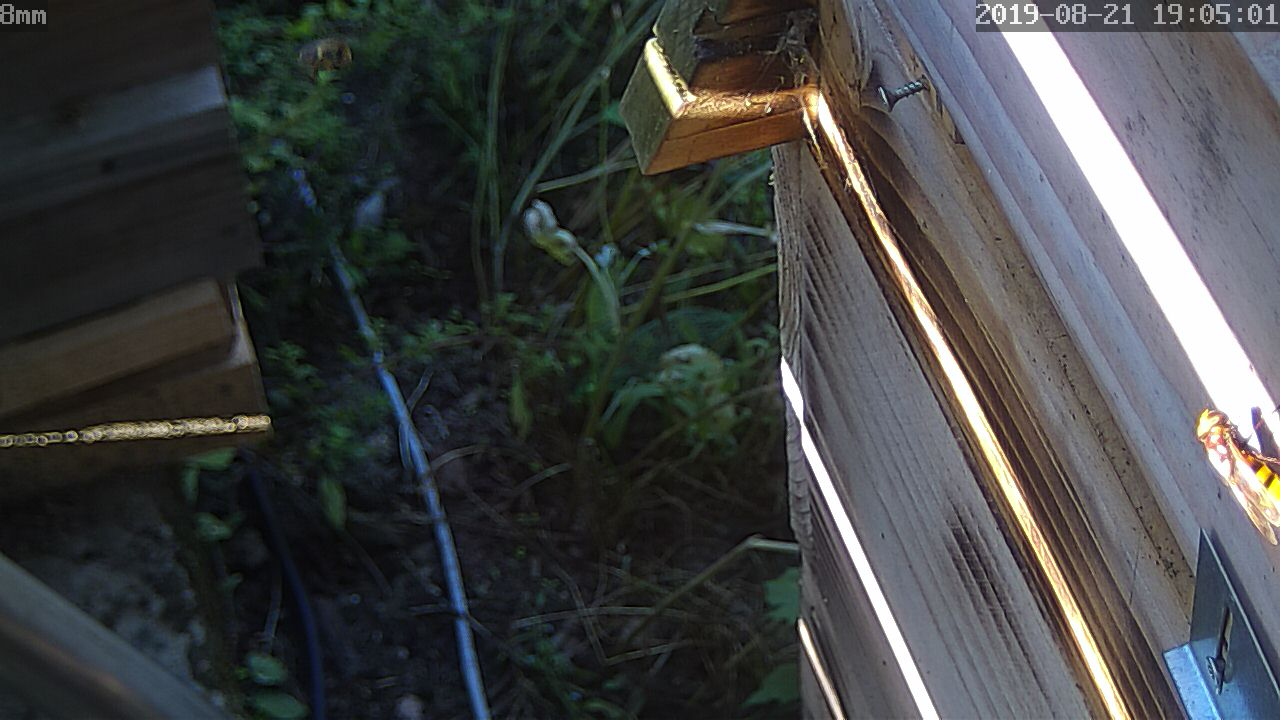hornet: (1191, 401, 1280, 548)
